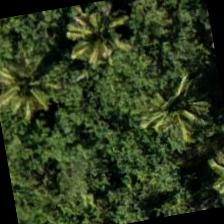Kelapa_Sawit: (128, 56, 223, 162), (51, 0, 154, 85), (0, 39, 63, 139), (182, 129, 223, 211)
